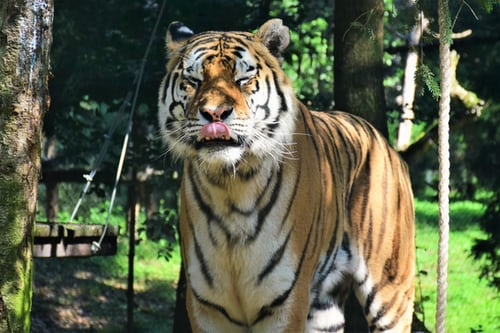tiger: (161, 23, 298, 174)
